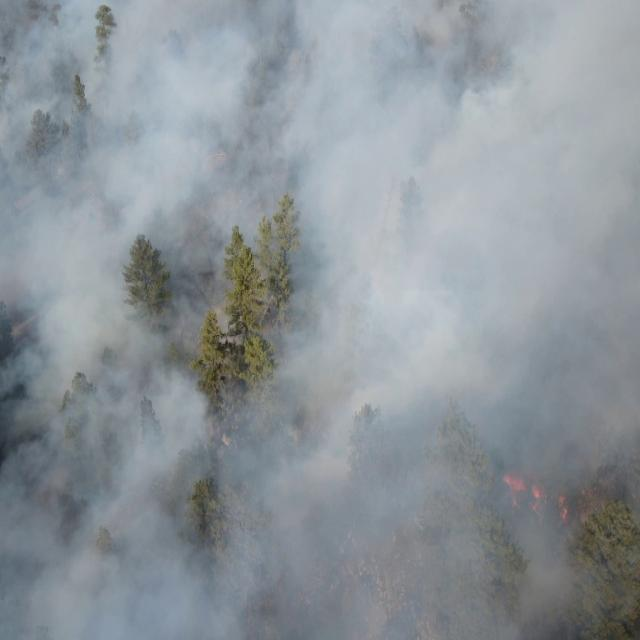fire: (502, 472, 541, 516), (556, 490, 572, 522)
smoke: (0, 0, 640, 640)
